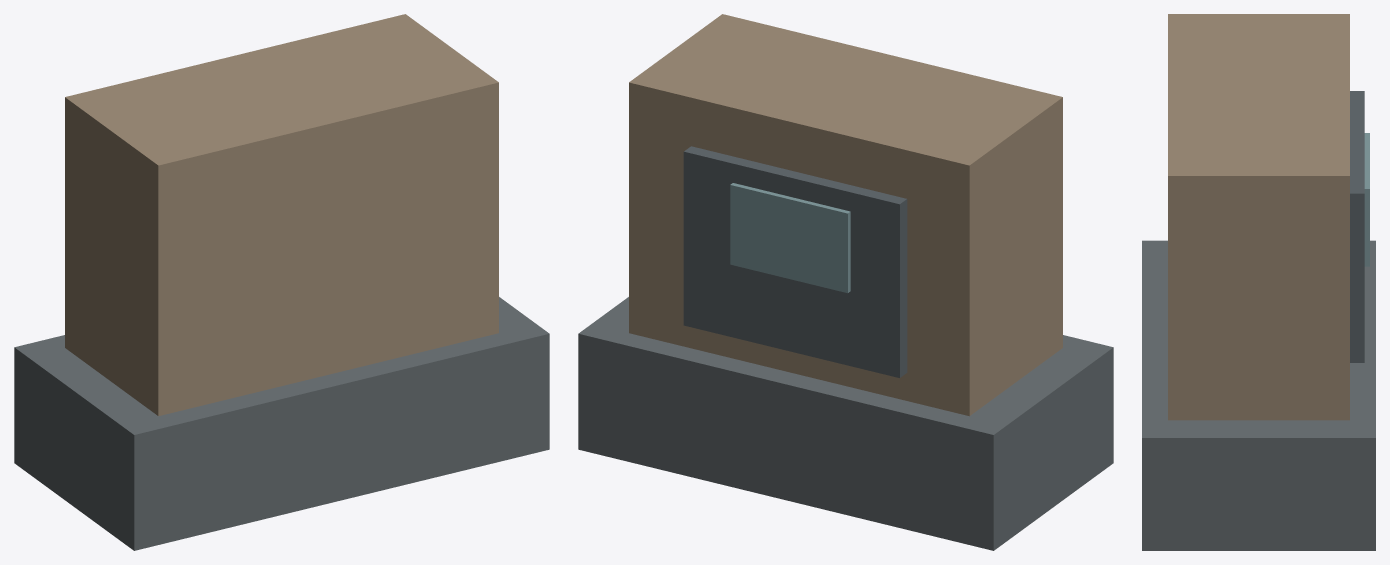
The model's file is iz3_health_sink_02.glb.
The picture shows the model from 3 angles, left to right: view 1: azimuth 30°, elevation 25°; view 2: azimuth 150°, elevation 25°; view 3: azimuth 270°, elevation 25°; orthographic projection. The views are drawn at different scales.
Parts seen in each view (by area): view 1: cabinet, base; view 2: cabinet, base, panel, display; view 3: cabinet, base, panel, display.
Part boxes in pixels (left/top/right/bottom): cabinet: left=65, top=14, right=498, bottom=416; base: left=14, top=297, right=549, bottom=550; cabinet: left=629, top=14, right=1062, bottom=416; base: left=578, top=297, right=1113, bottom=550; panel: left=683, top=146, right=907, bottom=377; display: left=730, top=183, right=850, bottom=293; cabinet: left=1168, top=14, right=1349, bottom=420; base: left=1142, top=240, right=1375, bottom=550; panel: left=1350, top=91, right=1364, bottom=362; display: left=1364, top=133, right=1369, bottom=266.
Bounding box in the file's own units: 1.2 × 1.01 × 0.6.
